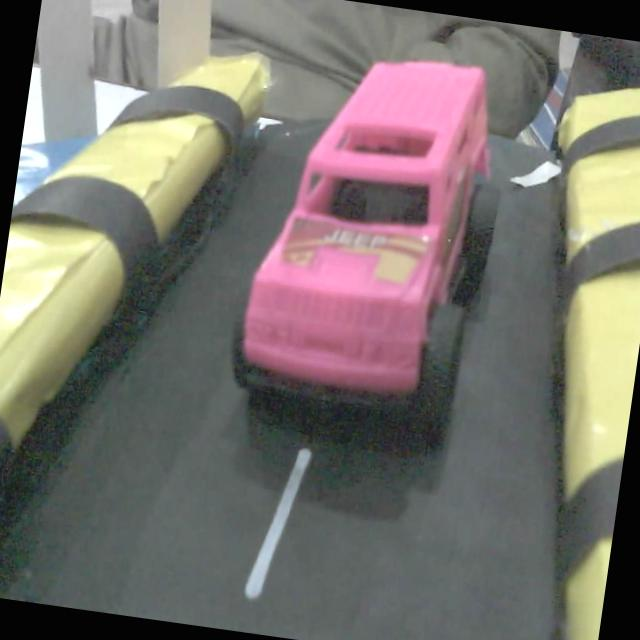OneCar: (224, 24, 535, 427), (232, 63, 498, 408)
